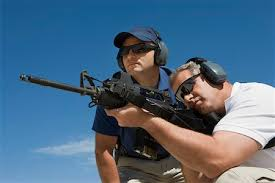Gun: (22, 75, 173, 107)
